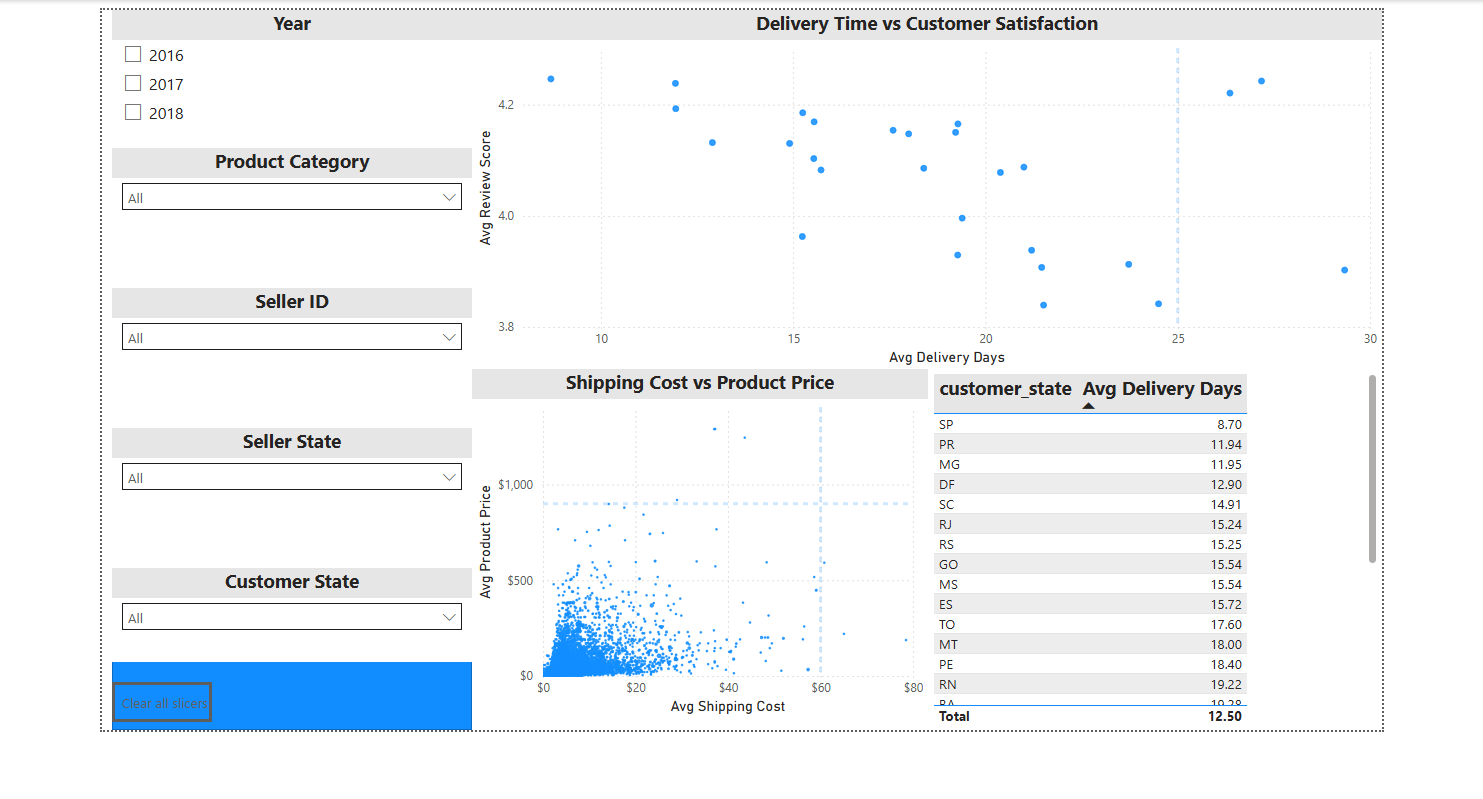

The page's visual inventory and layout, read from the dashboard file:
{"tool":"powerbi","page":{"name":"Outliers","canvas":[1280,720],"ordinal":7},"visuals":[{"type":"shape","box":[10,0,360,720],"z":0},{"type":"slicer","title":"Year","fields":{"Values":["Date.Year"]},"box":[10,0,360,138.3],"z":1000},{"type":"slicer","title":"Product Category","fields":{"Values":["product_category_name_translati.product_category_name_english"]},"box":[10,138.3,360,140],"z":2000},{"type":"slicer","title":"Seller ID","fields":{"Values":["sellers.seller_id"]},"box":[10,278.3,360,140],"z":3000},{"type":"slicer","title":"Seller State","fields":{"Values":["sellers.seller_state"]},"box":[10,418.3,360,140],"z":4000},{"type":"slicer","title":"Customer State","fields":{"Values":["customers.customer_state"]},"box":[10,558.3,360,93.3],"z":5000},{"type":"scatterChart","title":"Delivery Time vs Customer Satisfaction","fields":{"Category":["customers.customer_state"],"Size":["Date.Safe Order Count"],"X":["orders_delivered.Avg Delivery Days"],"Y":["Date.Safe Avg Review Score"]},"box":[370,0,910,360],"z":5001},{"type":"scatterChart","title":"Shipping Cost vs Product Price","fields":{"Category":["products.product_id"],"Size":["Date.Product Order Count"],"X":["Date.Avg Shipping Cost"],"Y":["Date.Avg Product Price"]},"box":[370.4,359.3,455.6,350],"z":5002},{"type":"tableEx","fields":{"Values":["customers.customer_state","orders_delivered.Avg Delivery Days"]},"box":[825.9,359.3,453.7,361.1],"z":5003},{"type":"actionButton","box":[10,671.7,100,40],"z":5004}]}

Visuals, with their boxes on the page's 1280x720 design canvas (x1, y1, x2, y2). These are canvas units, not pixel positions in the 1483x799 screenshot, which may show the page scaled, cropped or inside an application window:
shape: x1=10 y1=0 x2=370 y2=720
"Year" slicer: x1=10 y1=0 x2=370 y2=138
"Product Category" slicer: x1=10 y1=138 x2=370 y2=278
"Seller ID" slicer: x1=10 y1=278 x2=370 y2=418
"Seller State" slicer: x1=10 y1=418 x2=370 y2=558
"Customer State" slicer: x1=10 y1=558 x2=370 y2=652
"Delivery Time vs Customer Satisfaction" scatterChart: x1=370 y1=0 x2=1280 y2=360
"Shipping Cost vs Product Price" scatterChart: x1=370 y1=359 x2=826 y2=709
tableEx - customers.customer_state x orders_delivered.Avg Delivery Days: x1=826 y1=359 x2=1280 y2=720
actionButton: x1=10 y1=672 x2=110 y2=712
